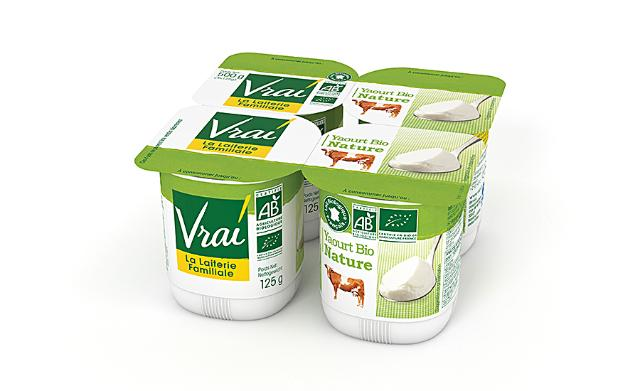yogurt: (134, 105, 322, 322)
